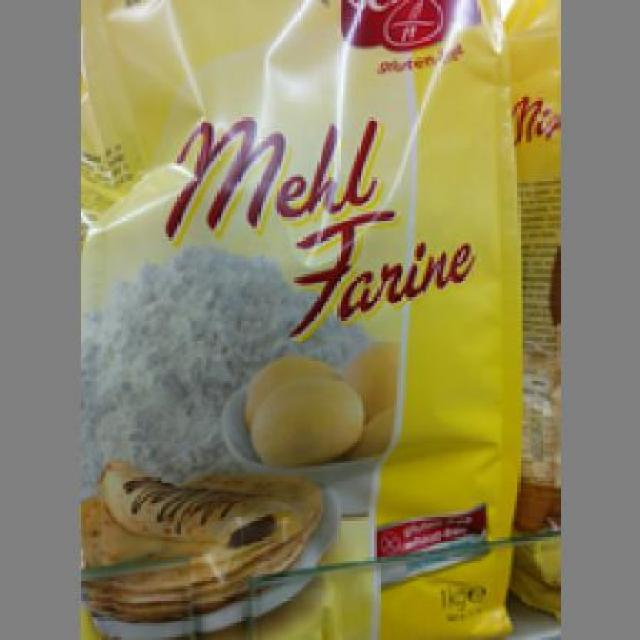Flour: (80, 0, 521, 635)
